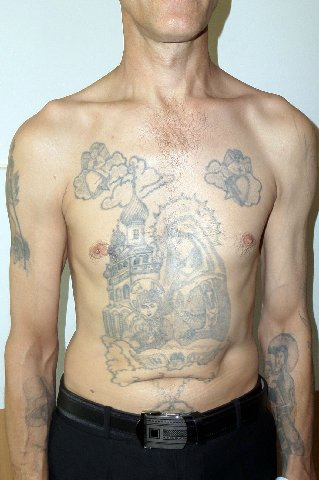tatu1_angel: (204, 145, 265, 208), (72, 140, 126, 208)
tatu2_bogorodica: (147, 198, 234, 342), (263, 333, 309, 466)
